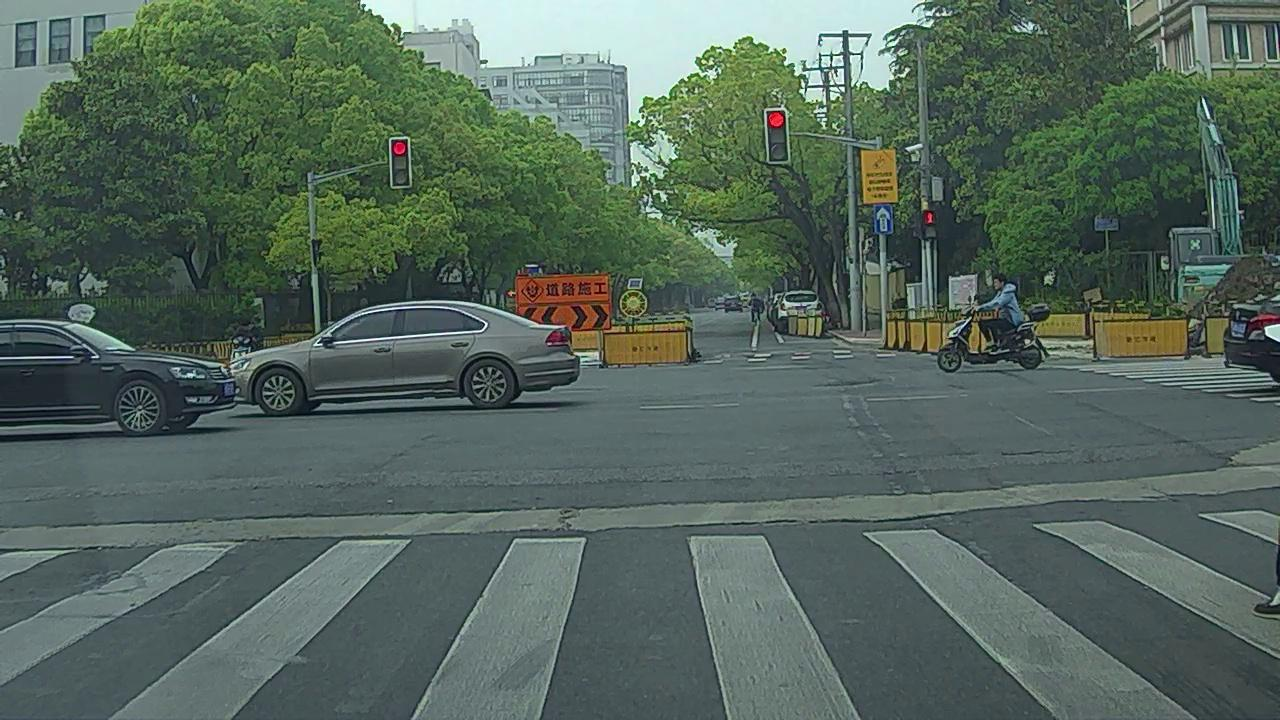traffic_light: (766, 111, 787, 162), (390, 139, 408, 185)
